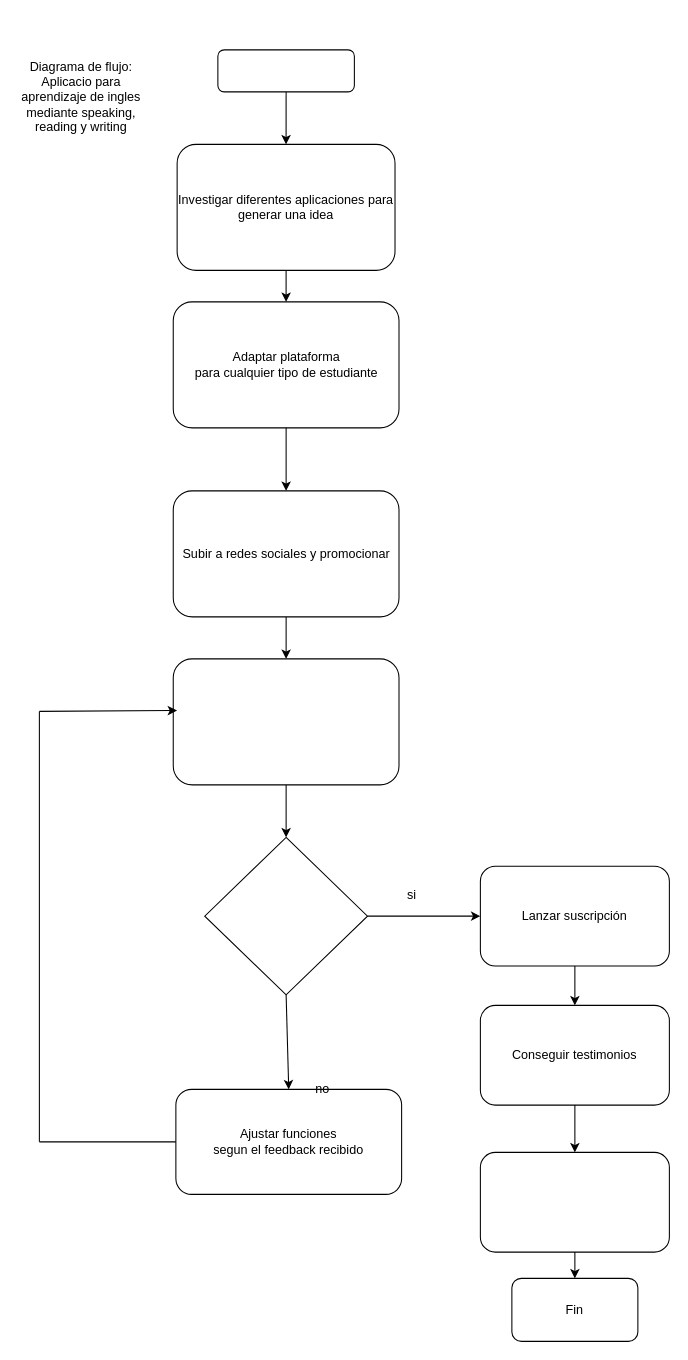
Image size: 688x1360. Some labels were removed from this diagram. Here are the shapes that lost their labels. From the top down, the box of each, then its label:
(217, 49, 354, 92): Inicio
(172, 658, 399, 785): Ofrecer prueba gratuita por 1 semana
(204, 836, 368, 995): ¿Resultado positivo?
(479, 1151, 669, 1252): Escalar a mas escuelas
